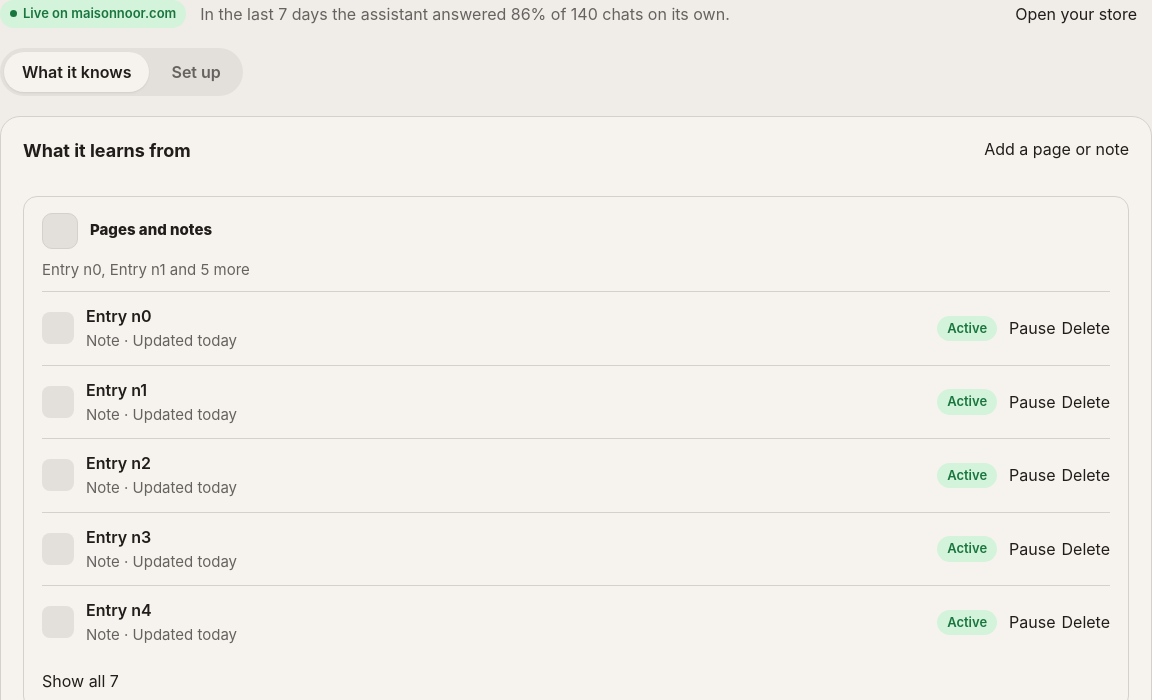
the v16 Store Chat page, What it knows › shows five rows until asked for all, and says so when an action fails
Expected: the number of list items is 5, top-left (42, 291), bottom-right (1110, 364); top-left (42, 364), bottom-right (1110, 438); top-left (42, 438), bottom-right (1110, 512); top-left (42, 512), bottom-right (1110, 585); top-left (42, 585), bottom-right (1110, 658)
Click the button "Show all 7" at x=80, y=680, box top-left (42, 668), bottom-right (119, 692)
(page scrolled)
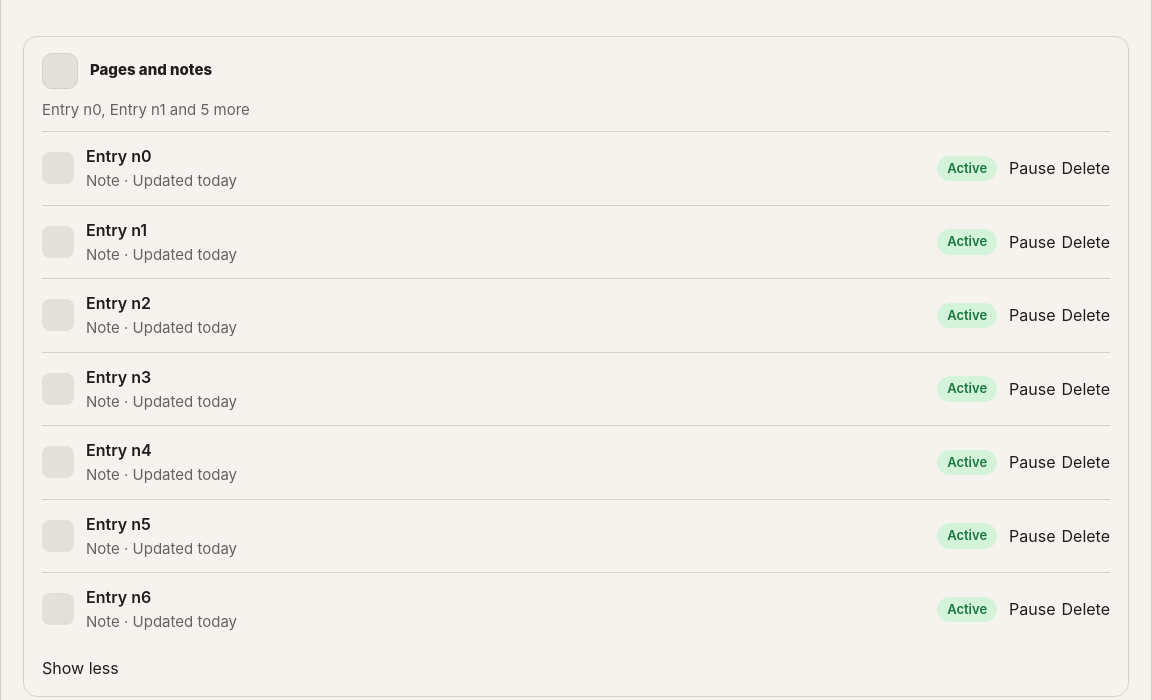
Now the number of list items is 7
Click the button "Pause" in the row of "Entry n6" at x=1032, y=609, box top-left (1009, 597), bottom-right (1056, 621)
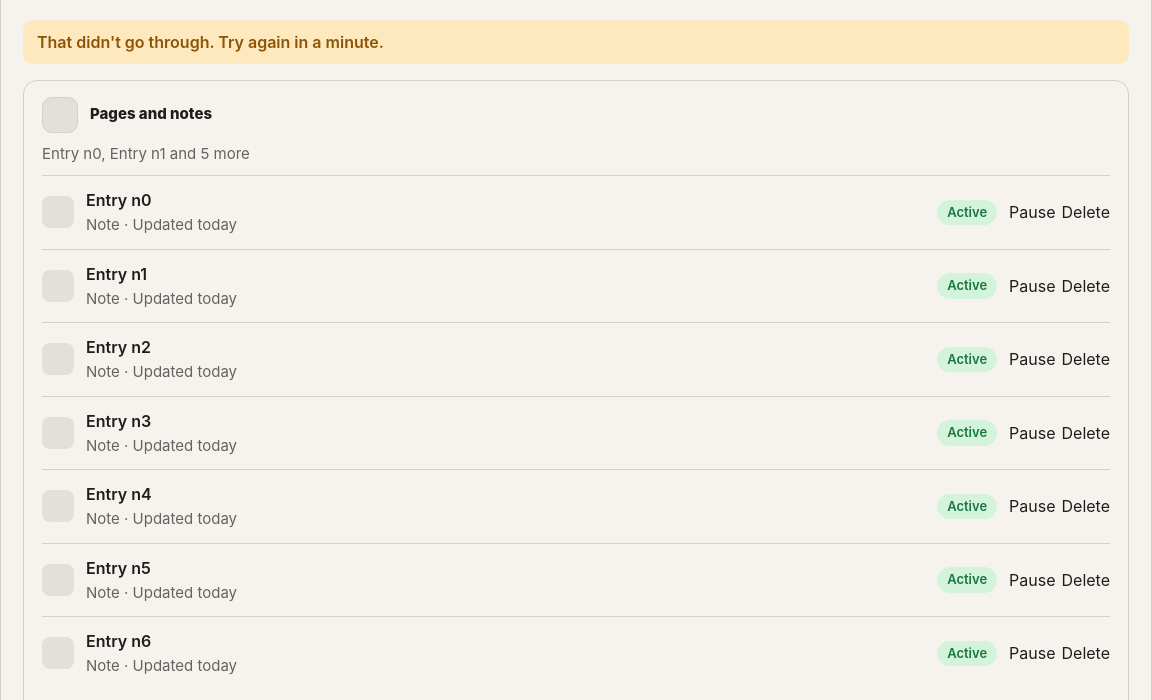
Now the message reads "That didn't go through. Try again in a minute.", box top-left (37, 32), bottom-right (384, 52)
